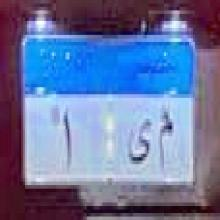1: (60, 106, 76, 171)
meem: (156, 106, 176, 171)
yaa: (124, 117, 152, 168)
